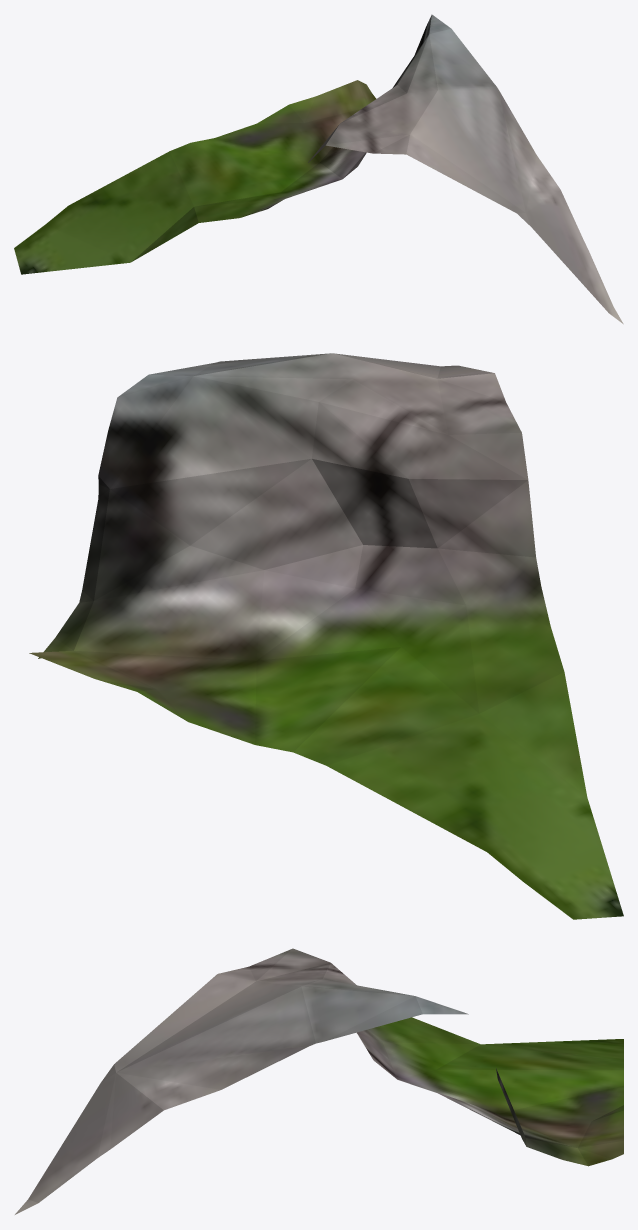
3 views of the same model, one above another, from view 1: azimuth 30°, elevation 25°; view 2: azimuth 150°, elevation 25°; view 3: azimuth 270°, elevation 25° (orthographic). The views are drawn at different scales.
Size of the model in its own units: 2.52 by 1.37 by 3.08.
Materials: 1 (1 with a texture image).
